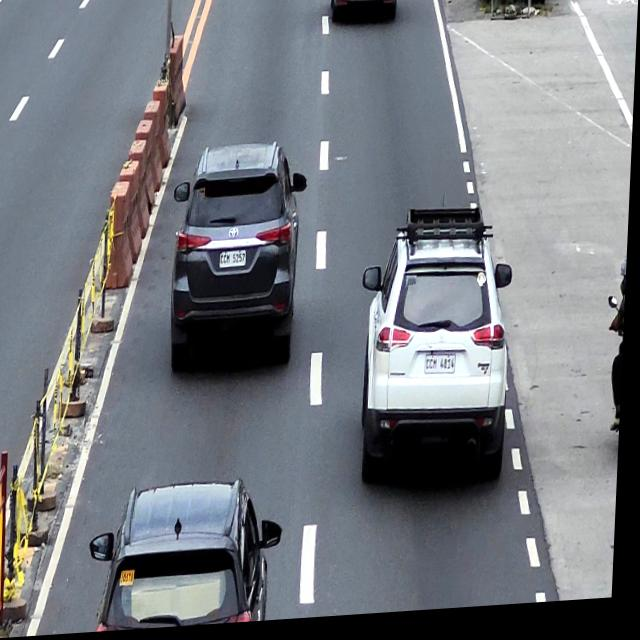Car: (357, 207, 518, 501), (168, 142, 310, 380), (93, 483, 288, 634)
License-Plate: (428, 360, 460, 381), (221, 252, 250, 271)
